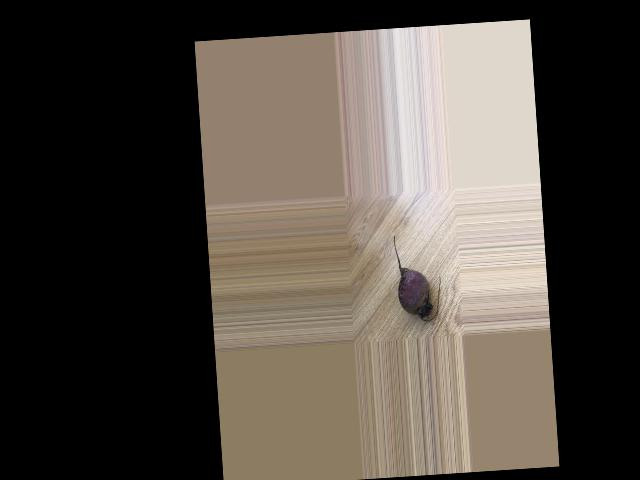beet: (393, 231, 442, 323)
